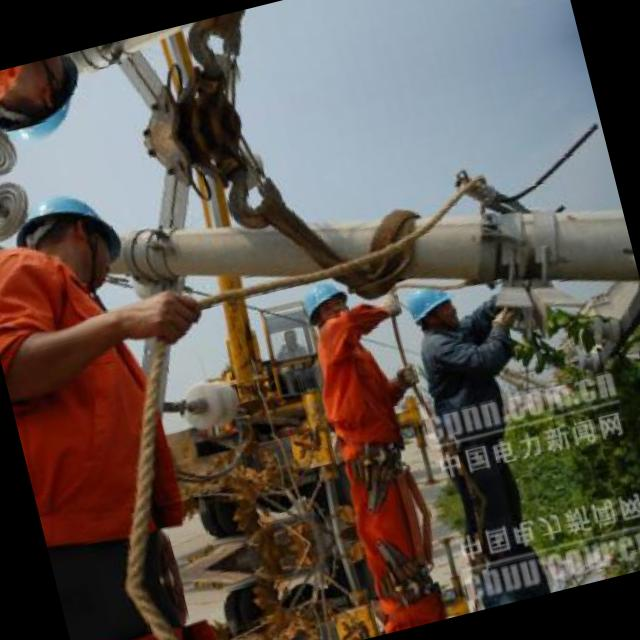helmet: (10, 174, 130, 294), (0, 51, 97, 158), (296, 272, 359, 336), (404, 279, 464, 340)
